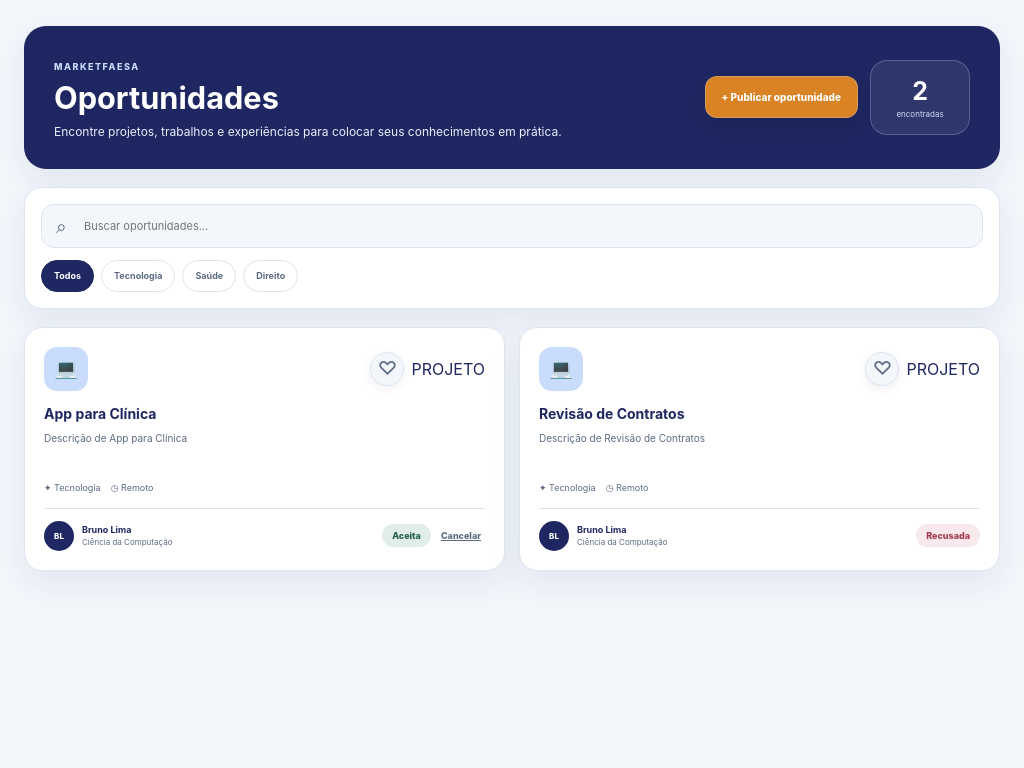
Test: Oportunidades › mostra o status do pedido e cancela com DELETE; recusada não tem cancelar
Expected: the heading "App para Clínica" is shown, [44,405,156,422]
Expected: the text "Aceita" is shown, [382,524,431,547]
Click the button with aria-label "Cancelar participação em App para Clínica". click: (461, 536)
box: [437,524,485,547]
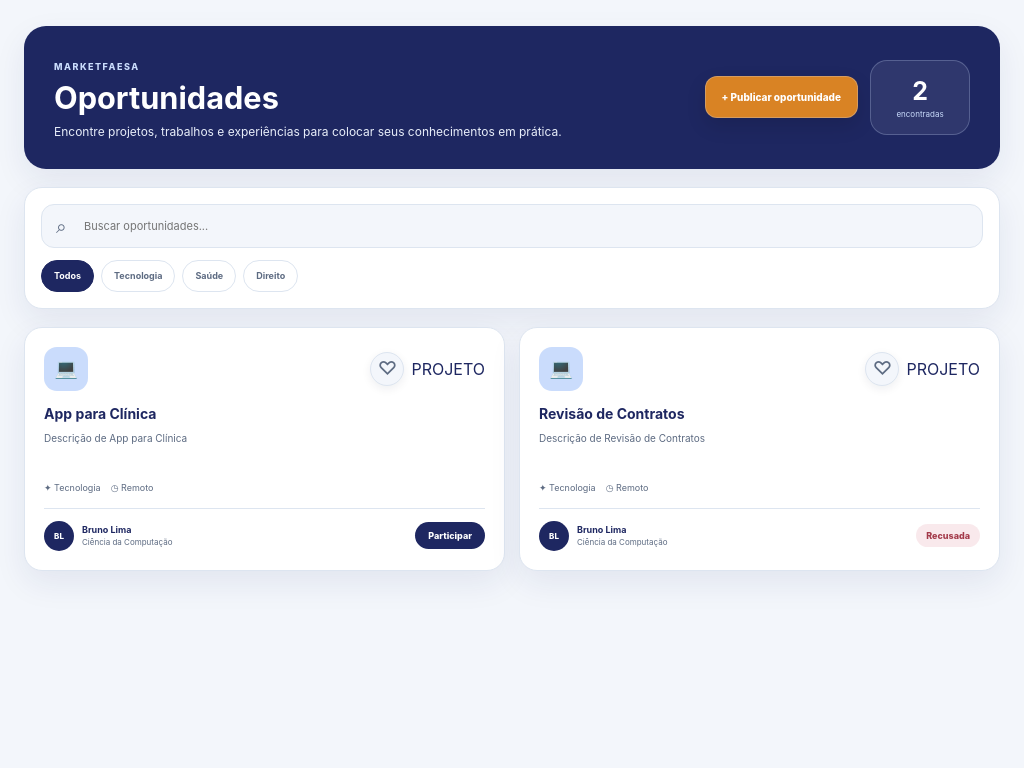
Expected: the button "Participar" is shown, [415,522,485,549]
